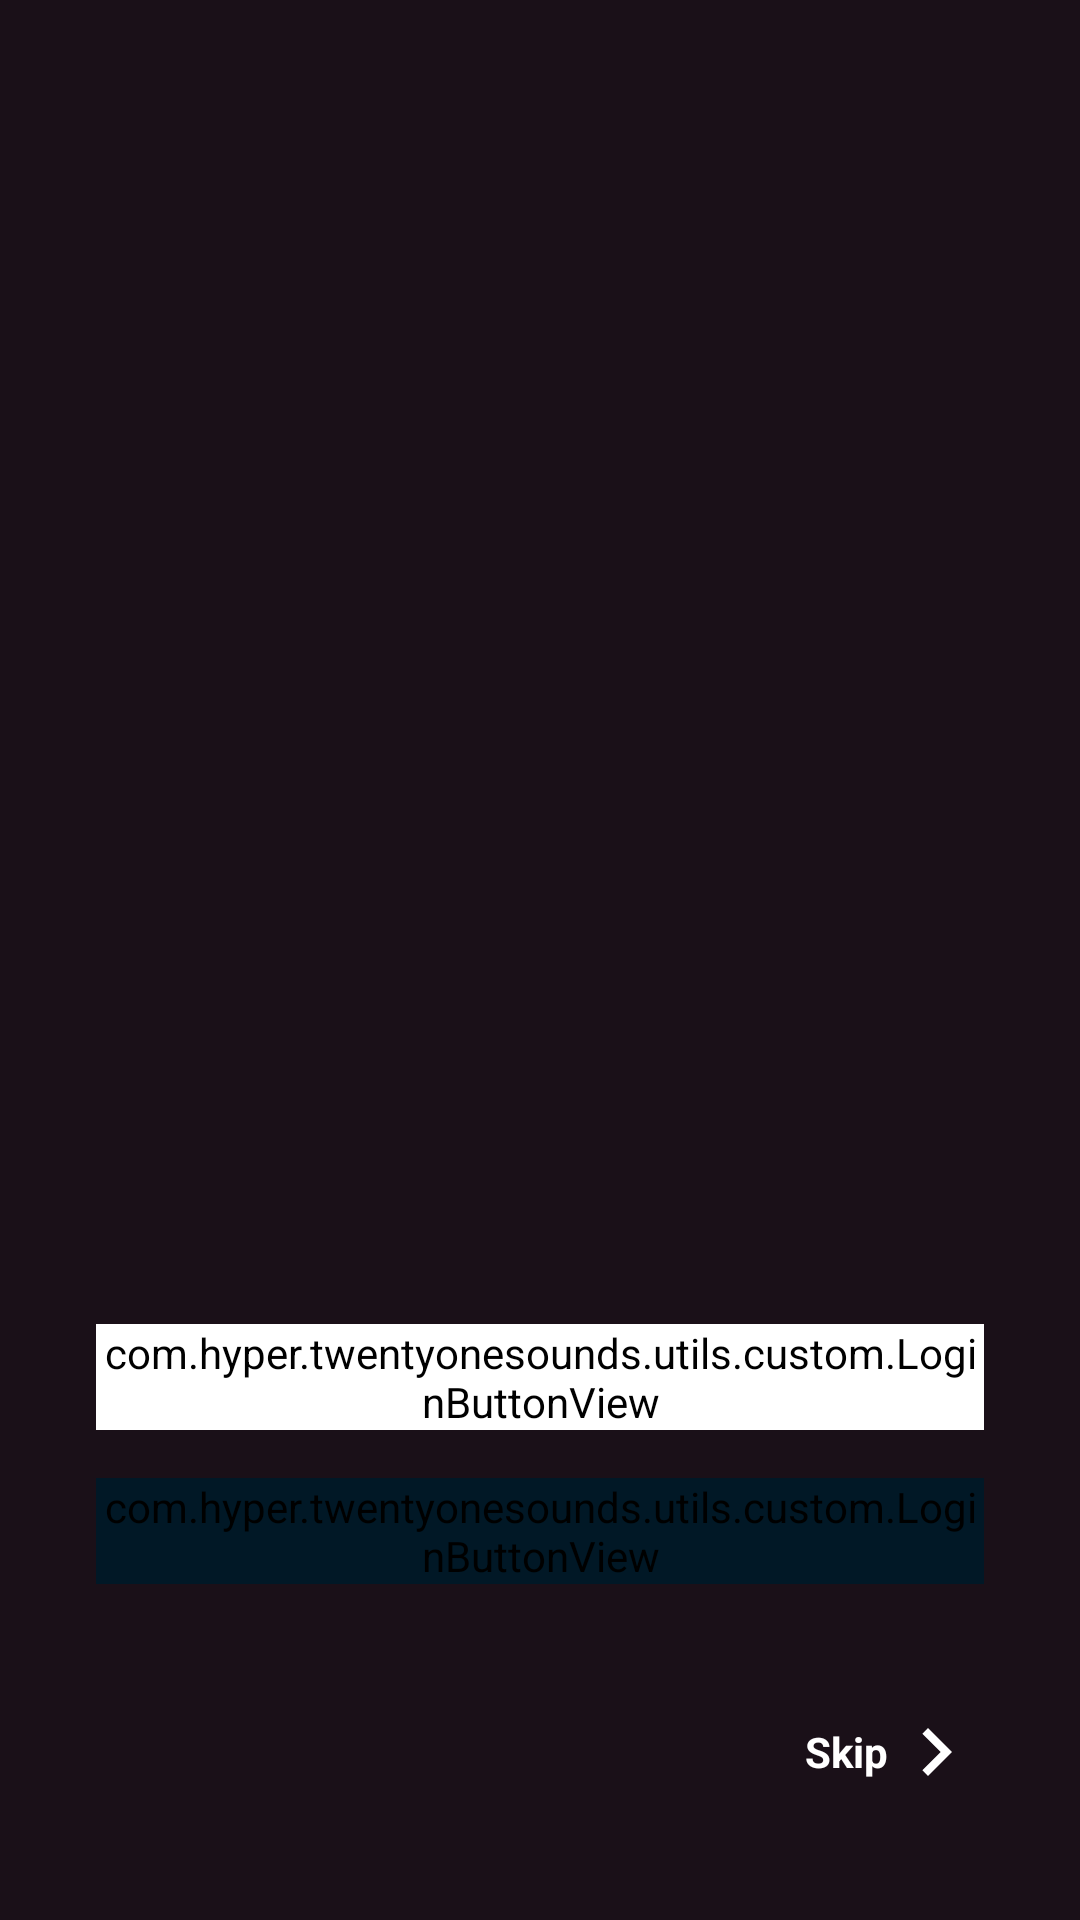

Named icons in this screenshot (1080*1920) and their centers, (x=x, y=y):
arrow right: (x=937, y=1752)
